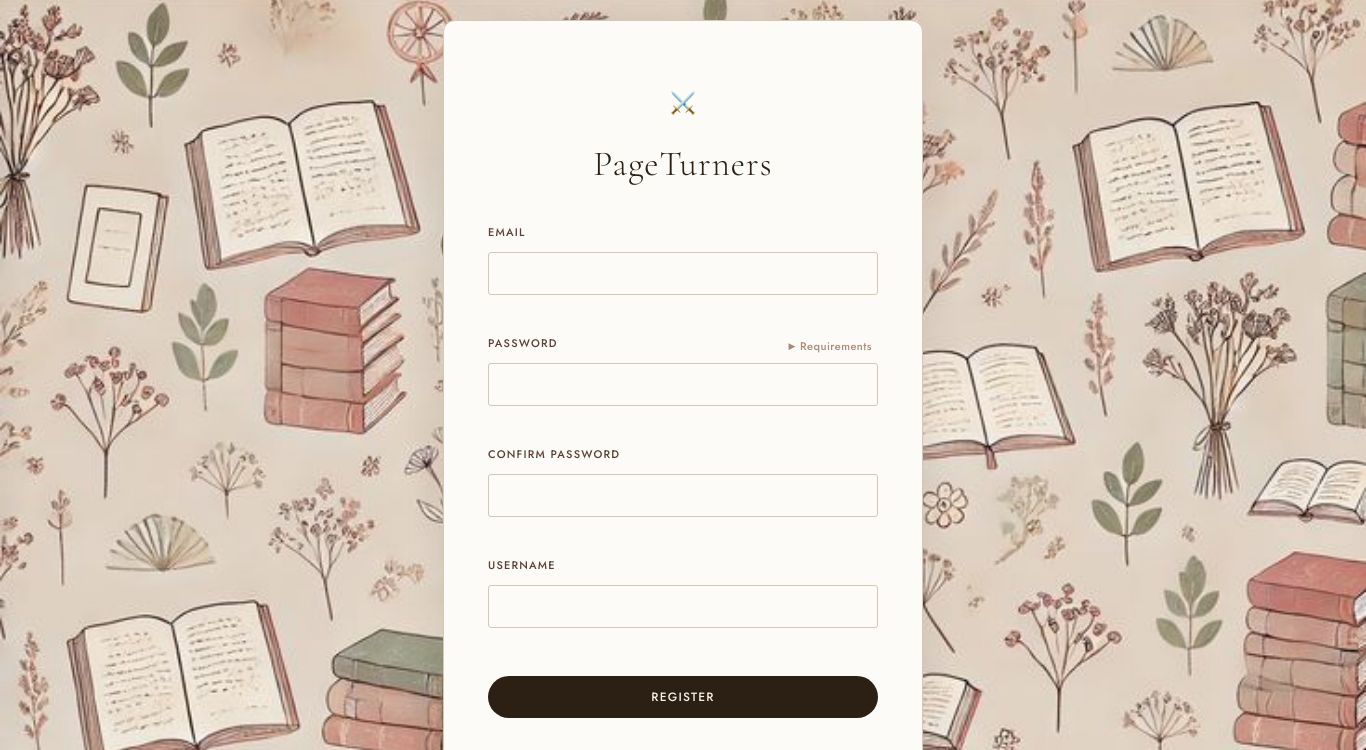
Register Component UI › clears validation errors when user starts typing
Note: trigger an error by clicking submit on empty form
Click the button with test id "register-submit-btn": {"x": 683, "y": 697} left=488, top=676, right=878, bottom=718
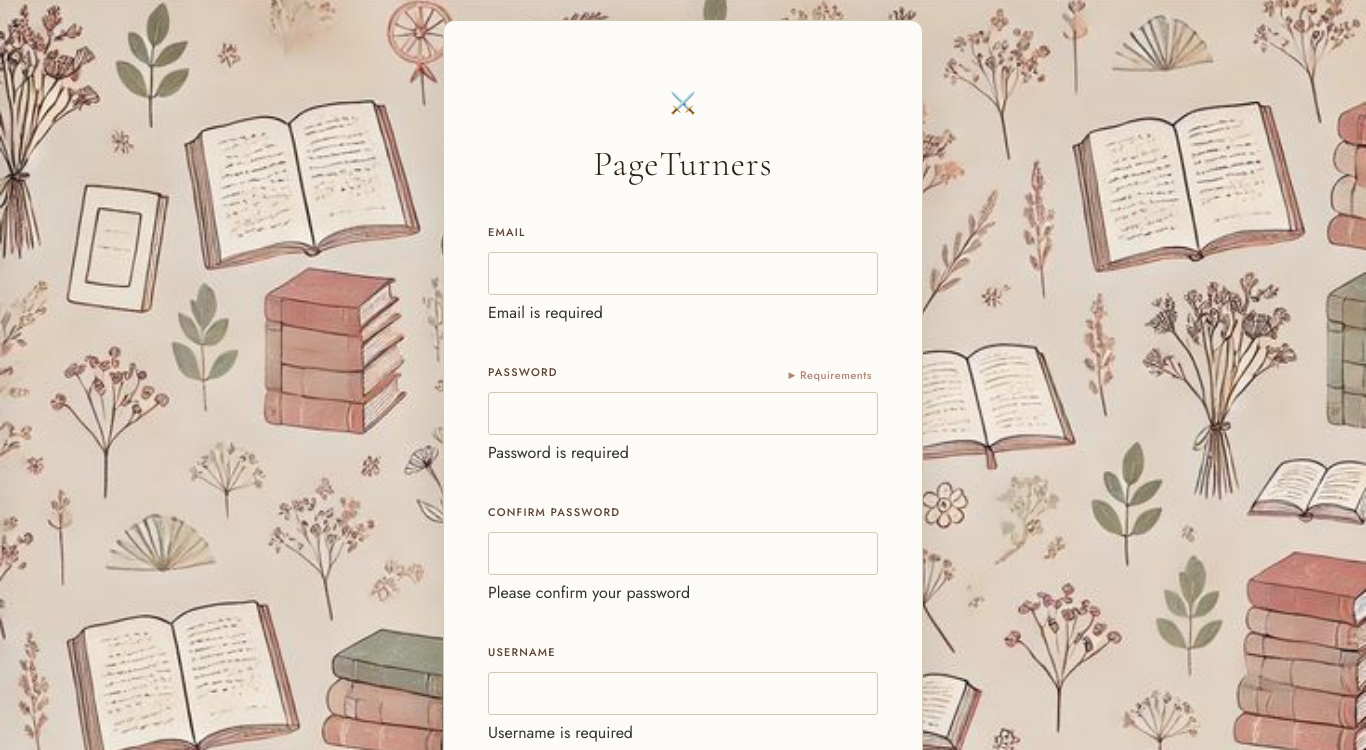
Now the text "Username is required" is shown, box left=488, top=721, right=633, bottom=744
Note: start typing to clear error
In the field with test id "username-input": {"x": 683, "y": 693} left=488, top=672, right=878, bottom=715, type "j"
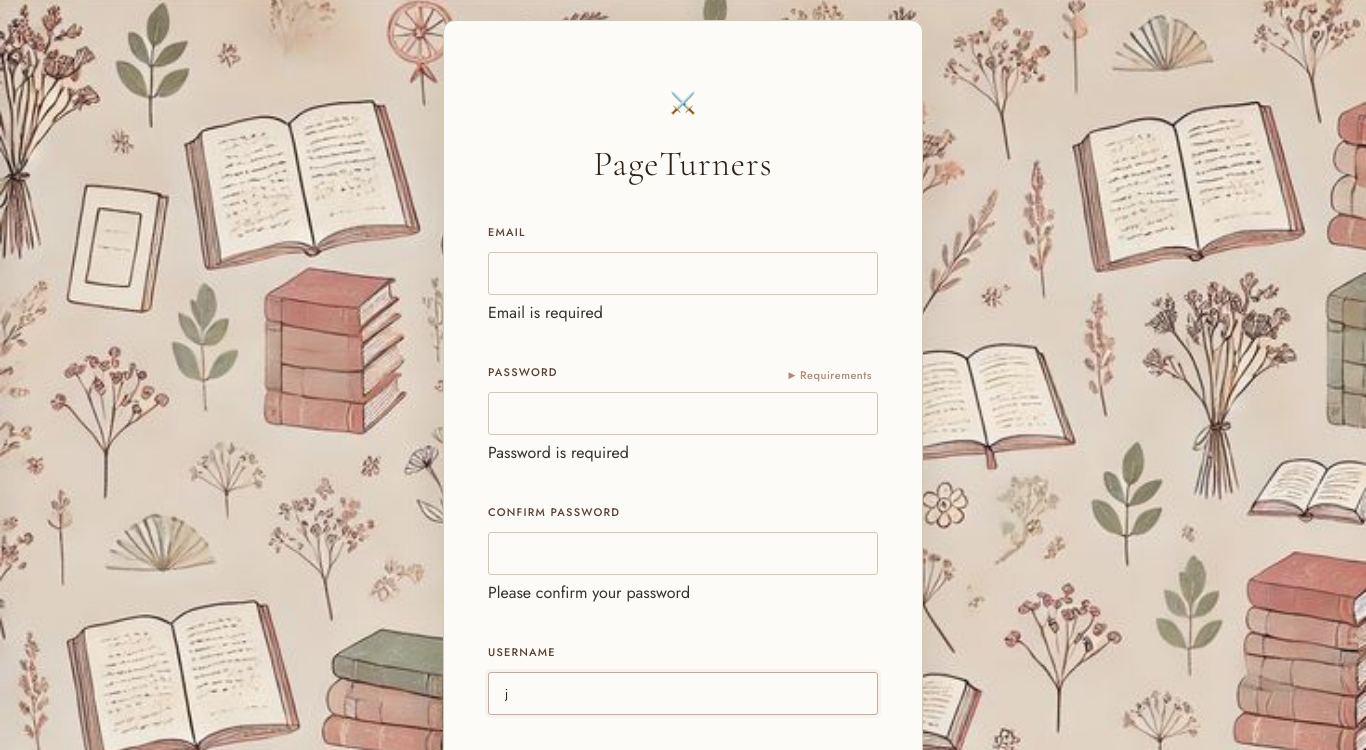
Now the text "Username is required" is gone
